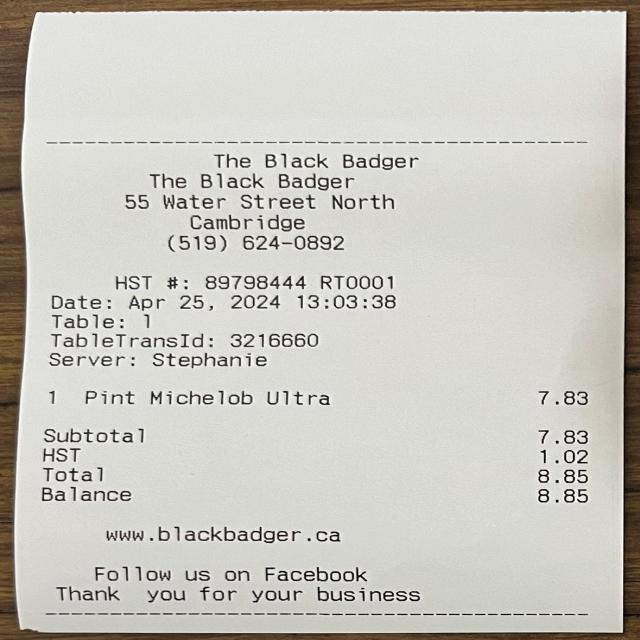item: (72, 382, 608, 413)
store_name: (202, 147, 433, 176)
total_amount: (31, 463, 607, 489)
transaction_date: (122, 291, 289, 314)
